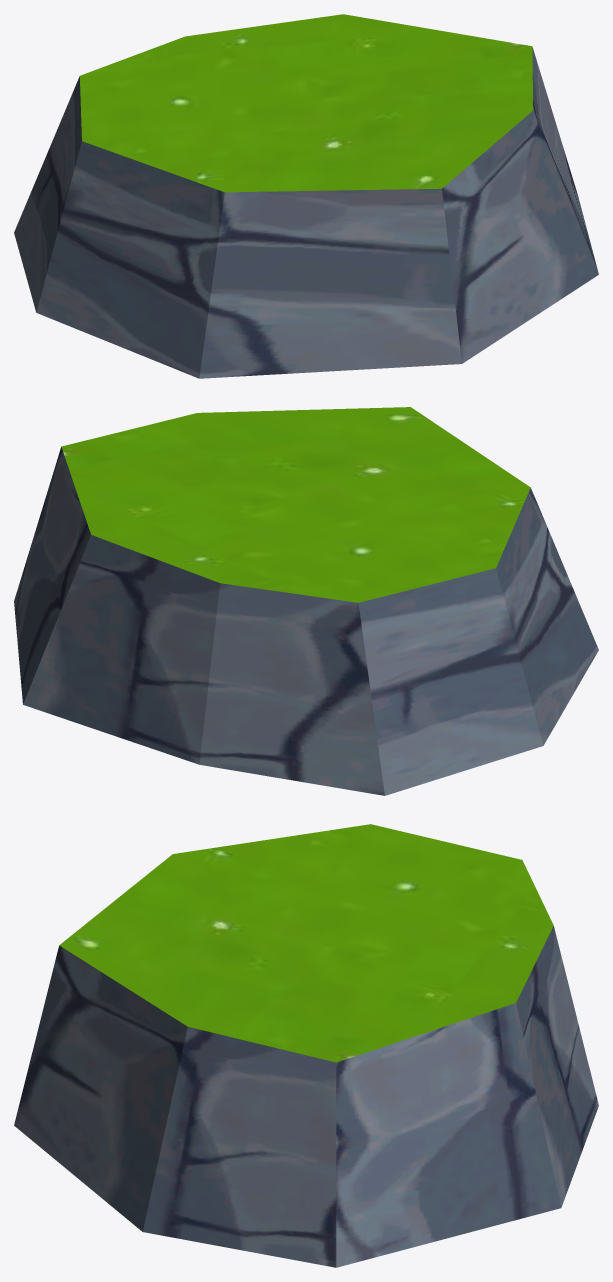
The model's file is Rock 3.fbx.
3 renders of one model, top to bottom at view 1: azimuth 30°, elevation 25°; view 2: azimuth 150°, elevation 25°; view 3: azimuth 270°, elevation 25°, orthographic. The views are drawn at different scales.
Parts seen in each view (by area): view 1: Cube.004; view 2: Cube.004; view 3: Cube.004.
Boxes of the visible parts, x1,y1,x2,y2 form: Cube.004: (14, 14, 598, 378); Cube.004: (14, 407, 598, 795); Cube.004: (14, 824, 598, 1267).
Bounding box in the file's own units: 256 × 74.5 × 219.
Materials: 2 (2 with a texture image).
